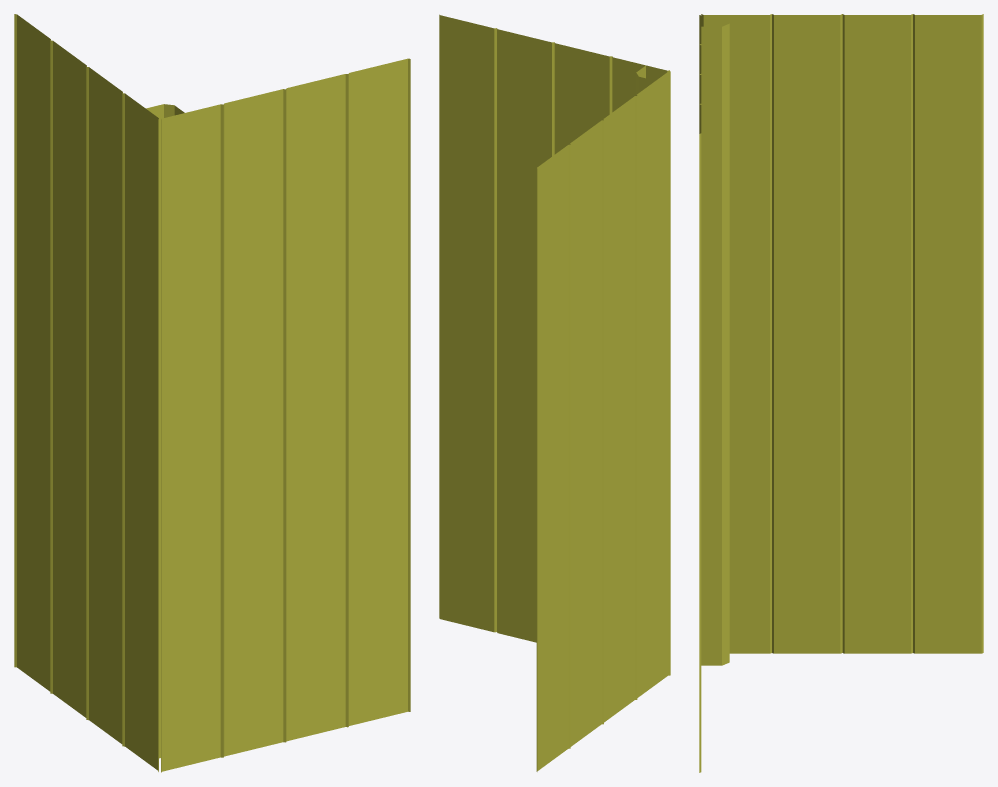
The model's file is WallCorner.fbx.
3 renders of one model, left to right at view 1: azimuth 30°, elevation 25°; view 2: azimuth 150°, elevation 25°; view 3: azimuth 270°, elevation 25°, orthographic. The views are drawn at different scales.
Parts seen in each view (by area): view 1: Box033; view 2: Box033; view 3: Box033.
Part boxes in pixels (left/top/right/bottom): Box033: left=14, top=14, right=410, bottom=772; Box033: left=439, top=14, right=670, bottom=771; Box033: left=699, top=14, right=983, bottom=772.
Bounding box in the file's own units: 101 × 250 × 101.
